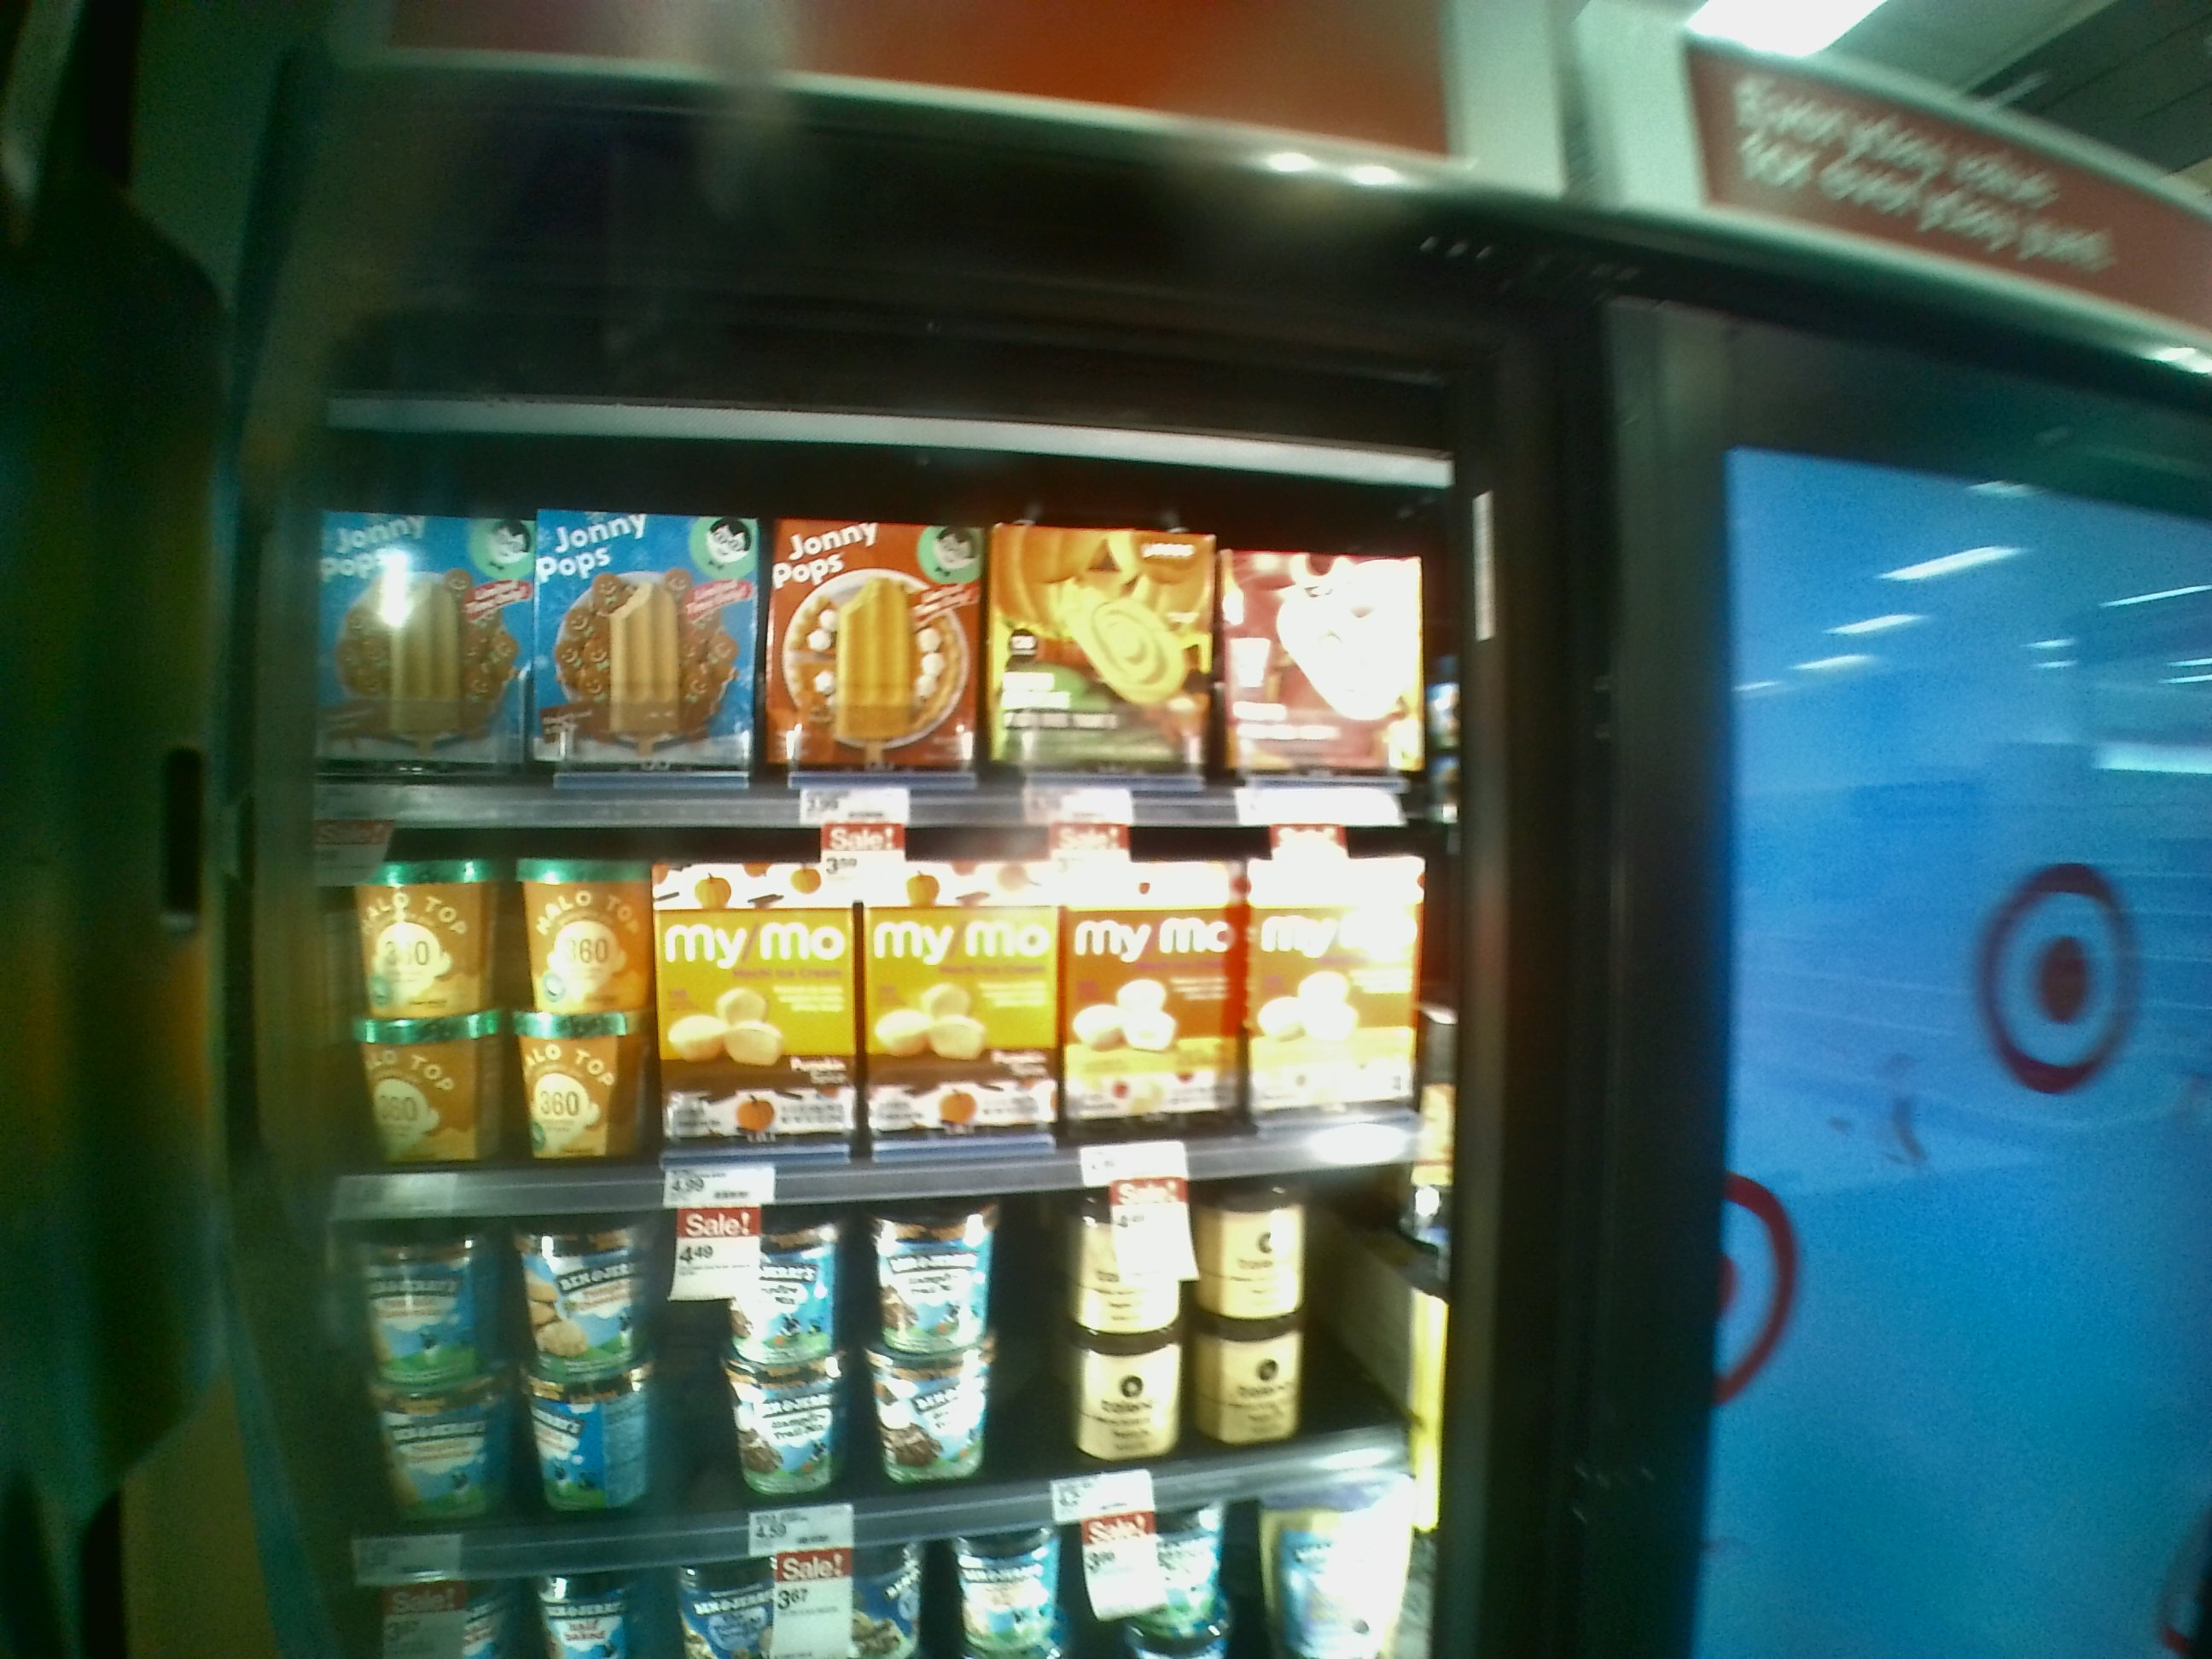shelf: (273, 796, 1446, 1201), (280, 411, 1437, 821), (270, 1202, 1400, 1540)
